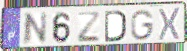6: (52, 11, 73, 45)
D: (104, 9, 128, 43)
G: (130, 9, 155, 42)
N: (21, 11, 49, 47)
X: (158, 6, 182, 42)
Z: (76, 11, 101, 44)
